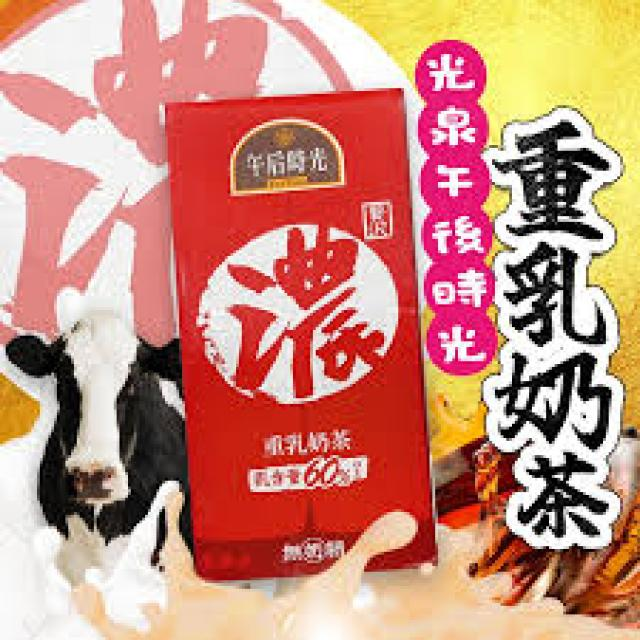Known_MilkTea: (160, 86, 433, 574)
